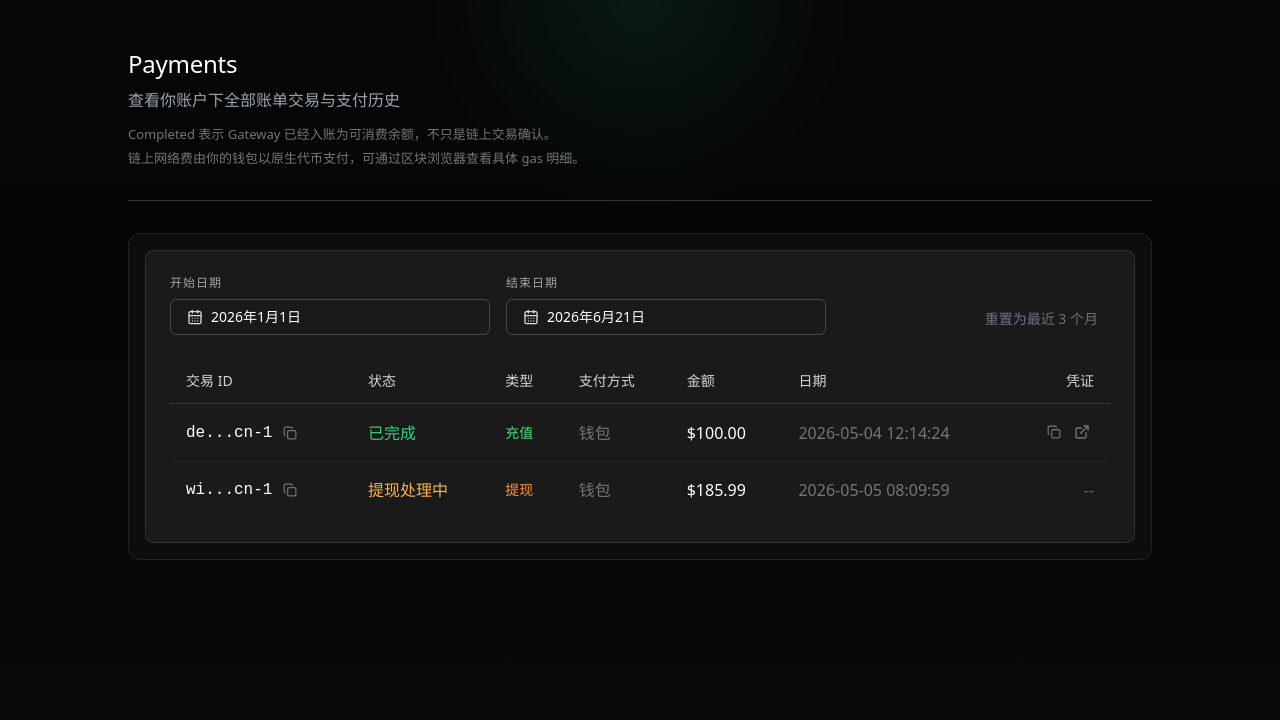
Test: OwnerBillingPage › renders payment table labels, action types, and date picker controls in Chinese
The width and height of the screenshot is (1280, 720).
Check: the button named "结束日期" is shown, box [506,299,826,335]
Check: the column heading "交易 ID" is shown, box [170,359,352,404]
Step 1. Click the button named "开始日期" → click(256, 316), box [170,299,490,335]
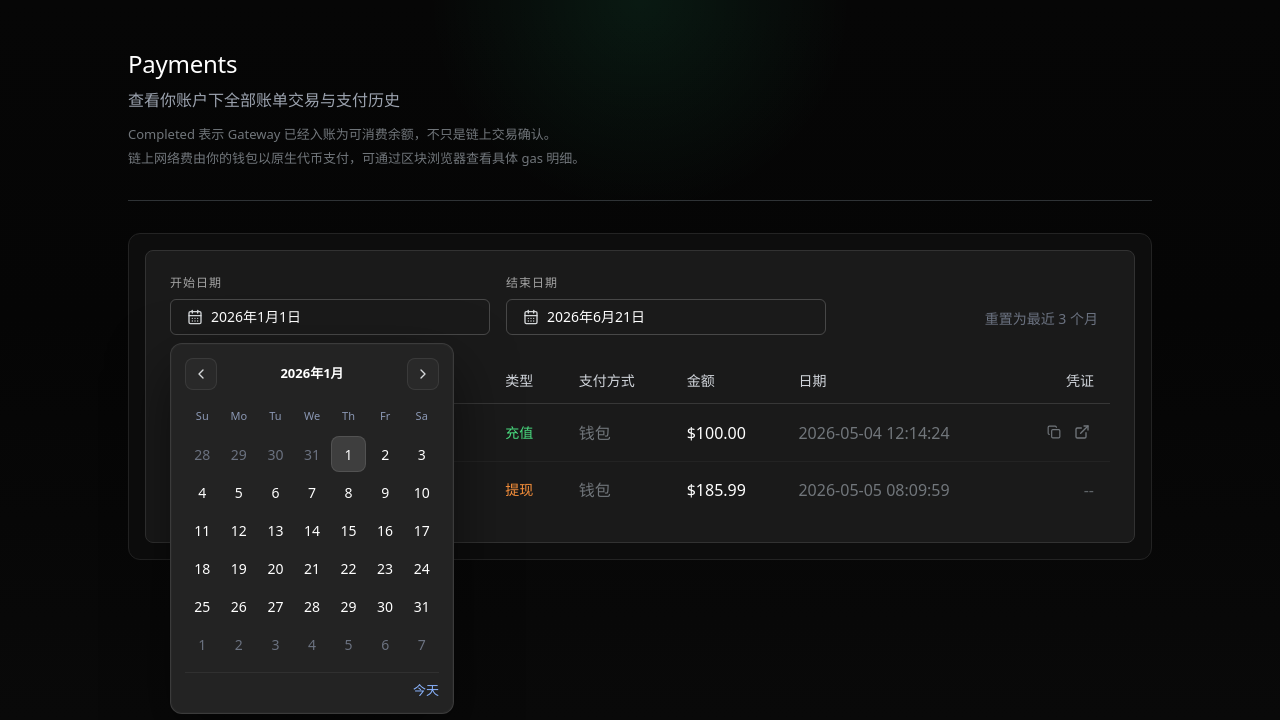
Check: the button named "上个月" is shown, box [185,358,217,390]
Check: the button named "下个月" is shown, box [407,358,439,390]
Check: the button "今天" is shown, box [413,681,439,700]
